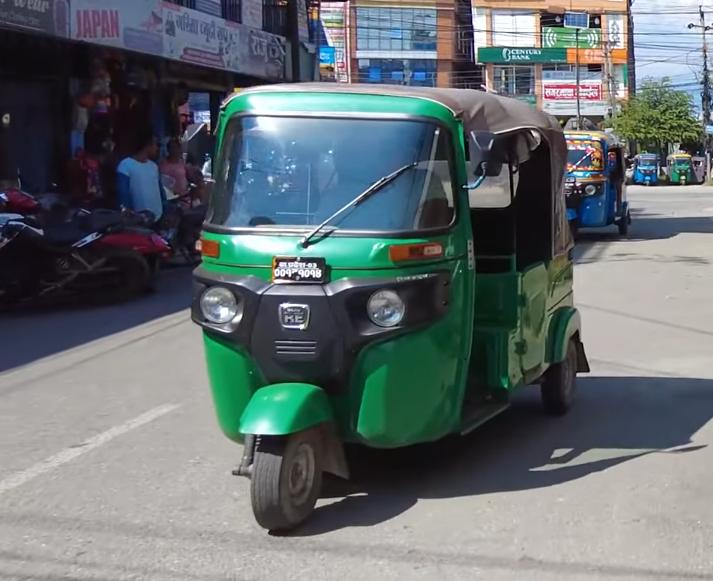auto_rickshaw: (180, 87, 589, 533), (557, 128, 634, 246), (667, 150, 694, 189), (632, 151, 660, 187)
